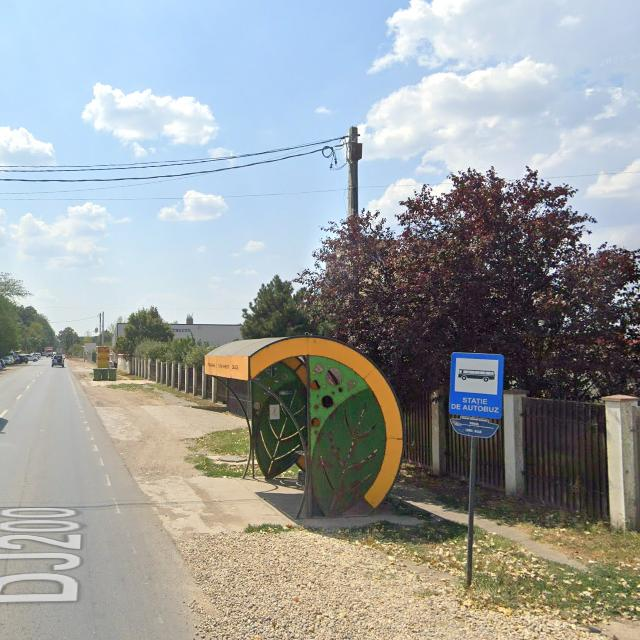info_bus_station: (450, 352, 504, 414)
